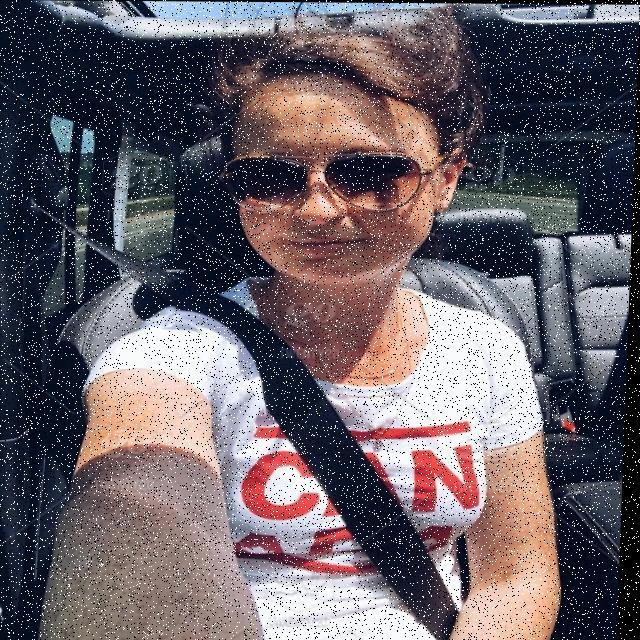seatbelt: (158, 281, 520, 640)
